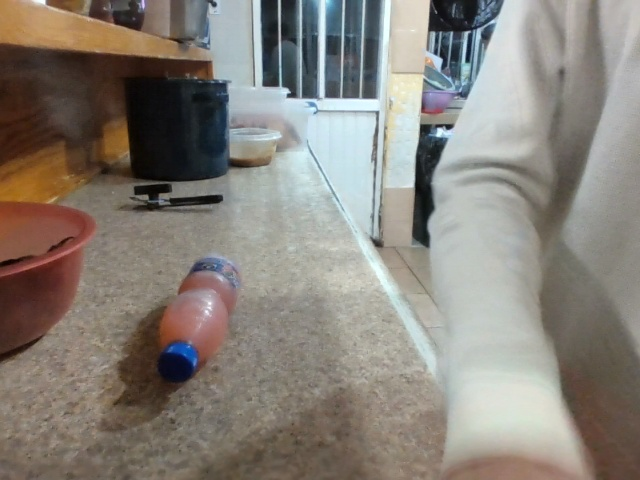botella: (110, 245, 343, 392)
